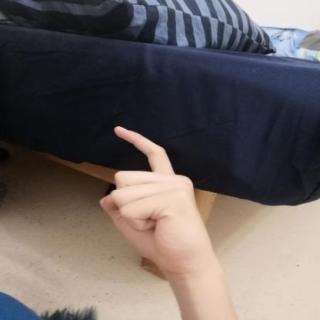RAA: (91, 118, 225, 274)
